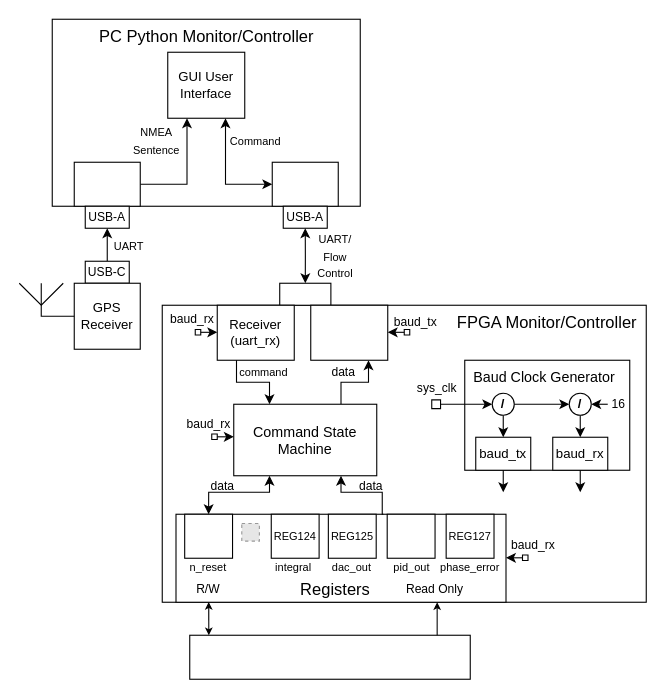
Some shapes in this 666 by 699 pixel diagram are drawn without their labels. Grey dashed boxes stand in for pictures. Here are the shapes that lost their labels. From the top down, the centre of each, then its label:
(106,183): GPS Monitor
(304,183): FPGA Monitor
(305,293): RS232
(349,332): Transmitter (uart_tx)
(208,535): REG0
(410,535): REG126
(329,656): Main FPGA System
